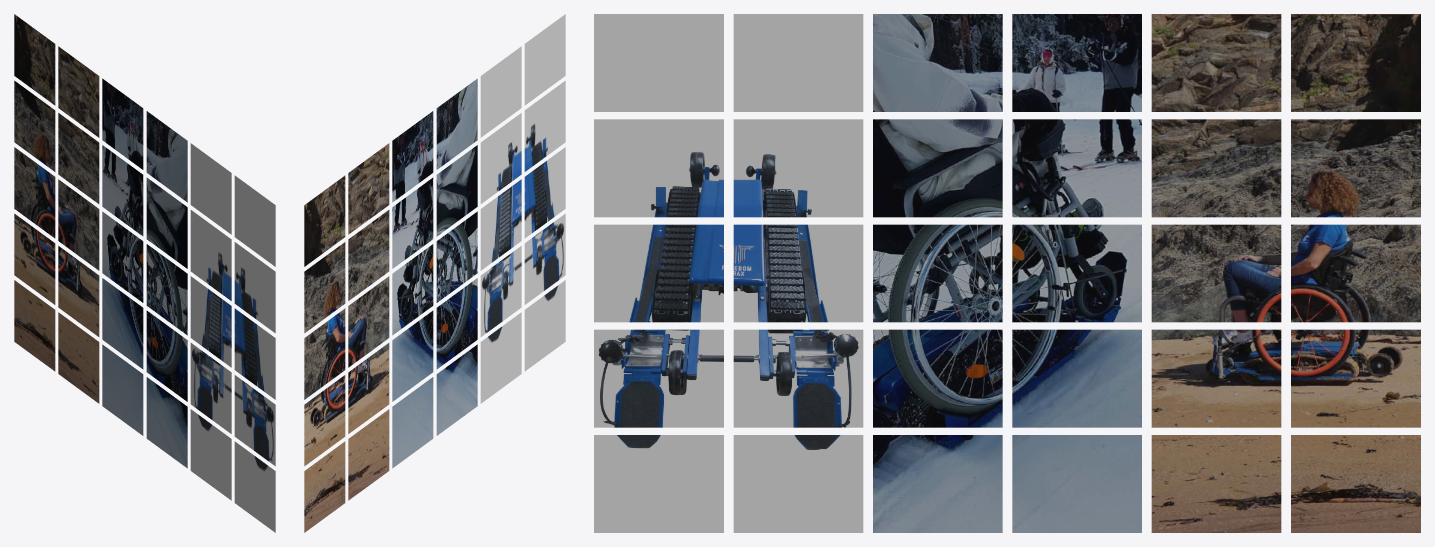
Rendered from TV_mov_1.glb.
3 renders of one model, left to right at view 1: azimuth 30°, elevation 25°; view 2: azimuth 150°, elevation 25°; view 3: azimuth 270°, elevation 25°, orthographic. The views are drawn at different scales.
Parts seen in each view (by area): view 1: 1.009, 3.008, 2.009; view 2: 1.009, 3.008, 2.009; view 3: 3.008, 2.009, 1.009.
Part boxes in pixels (<box>): 1.009: <box>102,78,187,468</box>; 3.008: <box>14,14,99,403</box>; 2.009: <box>190,143,275,532</box>; 1.009: <box>392,78,477,468</box>; 3.008: <box>304,143,389,532</box>; 2.009: <box>480,14,565,403</box>; 3.008: <box>1151,14,1420,532</box>; 2.009: <box>594,14,863,532</box>; 1.009: <box>873,14,1141,532</box>.
Size of the model in its own units: 1.27e-07 by 8.82 by 12.74.
Materials: 3 (3 with a texture image).
